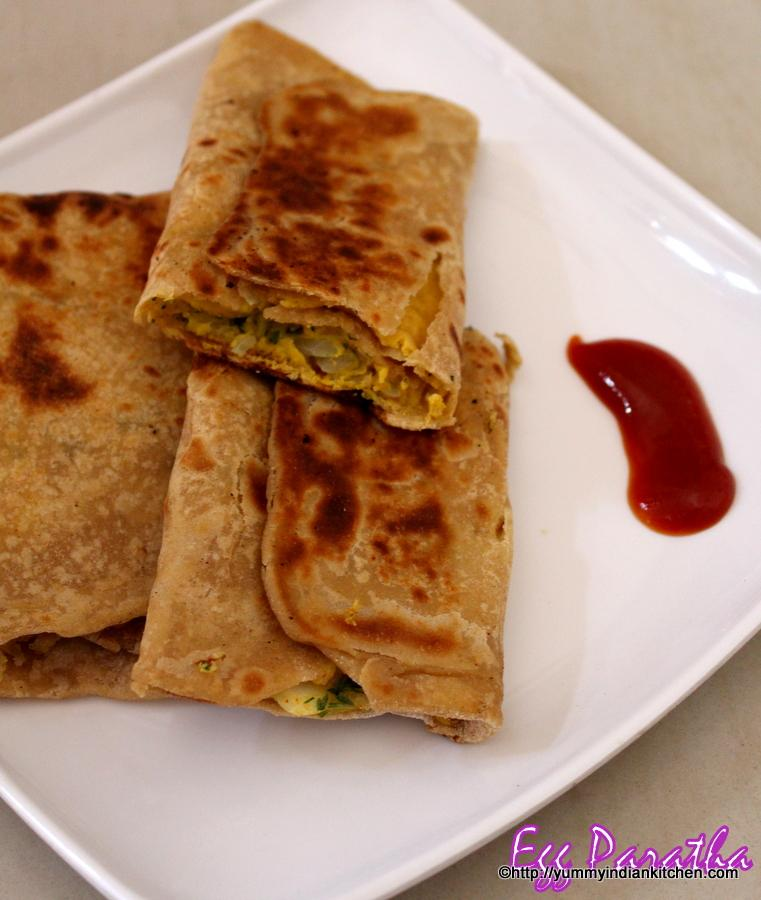chapati: (134, 329, 519, 741), (135, 21, 478, 429), (0, 192, 192, 641), (422, 520, 429, 535)
